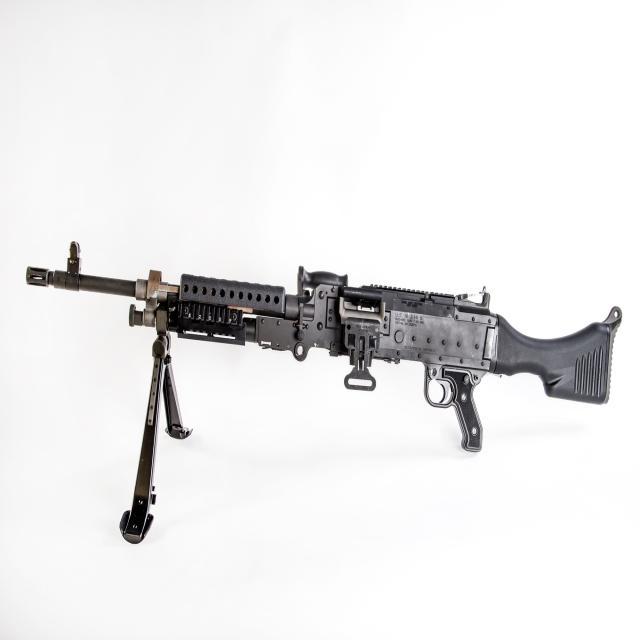Gun: (25, 203, 626, 550)
